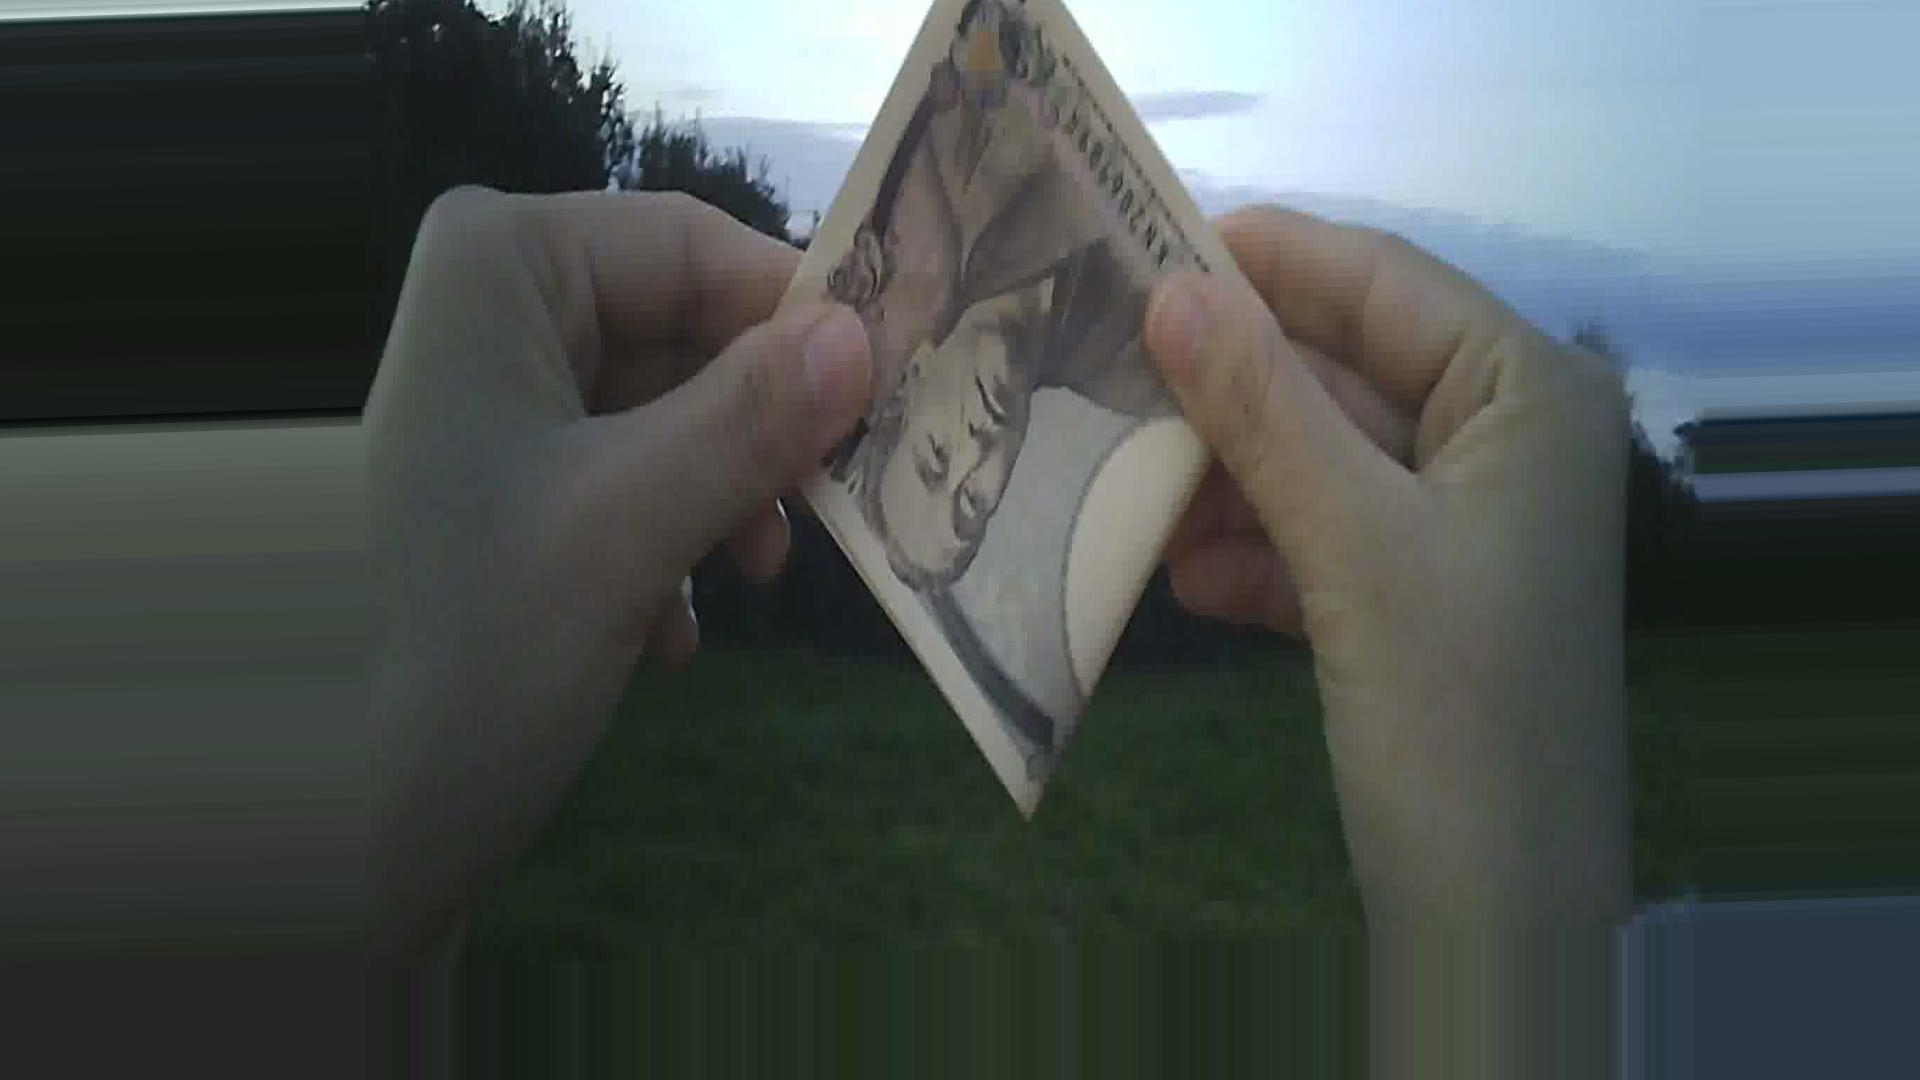10,000 Yen: (729, 16, 1286, 825)
